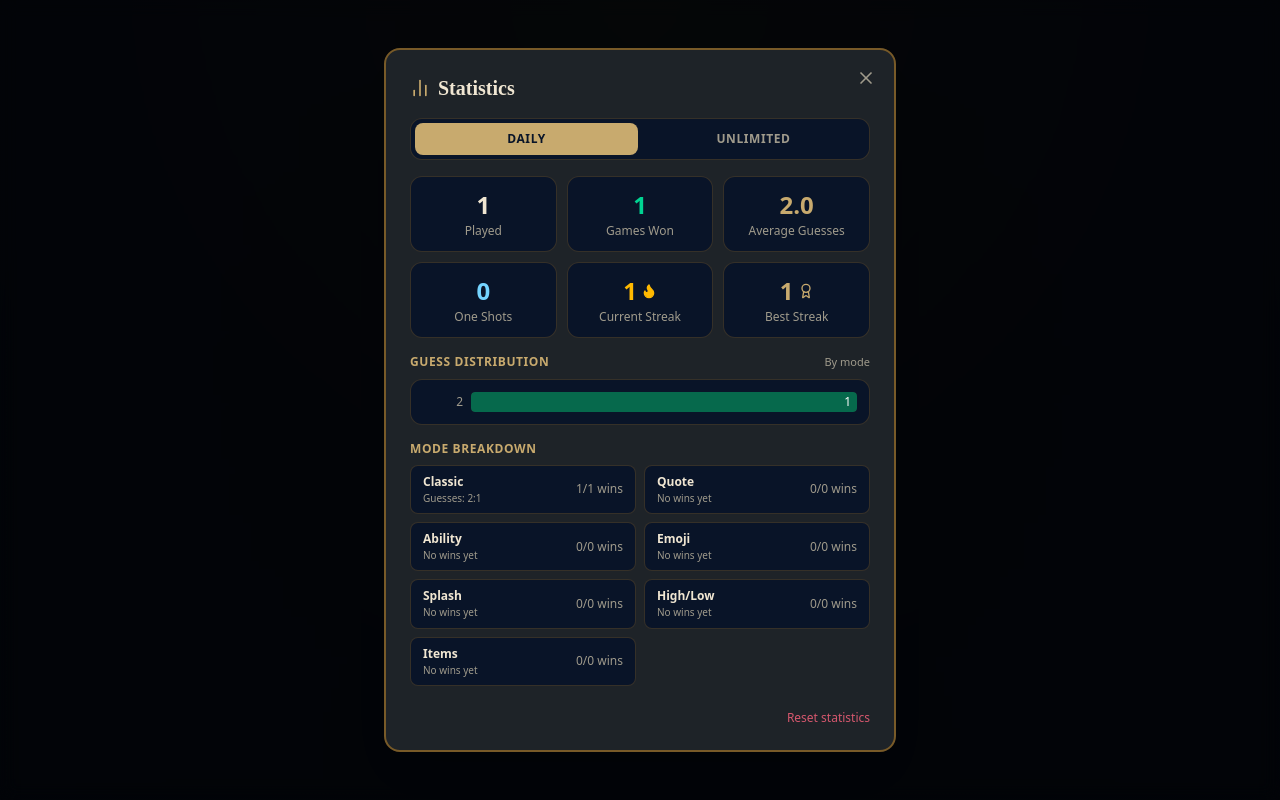
Test: StatsModal Component › renders bucket tabs and per-mode distribution
This screenshot has width=1280, height=800.
Expected: the dialog "Statistics" is shown, [384,48,896,752]
Expected: the text "Games Won" is shown, [606,222,674,239]
Click the tab "Unlimited": (754, 139) [642,123,865,155]
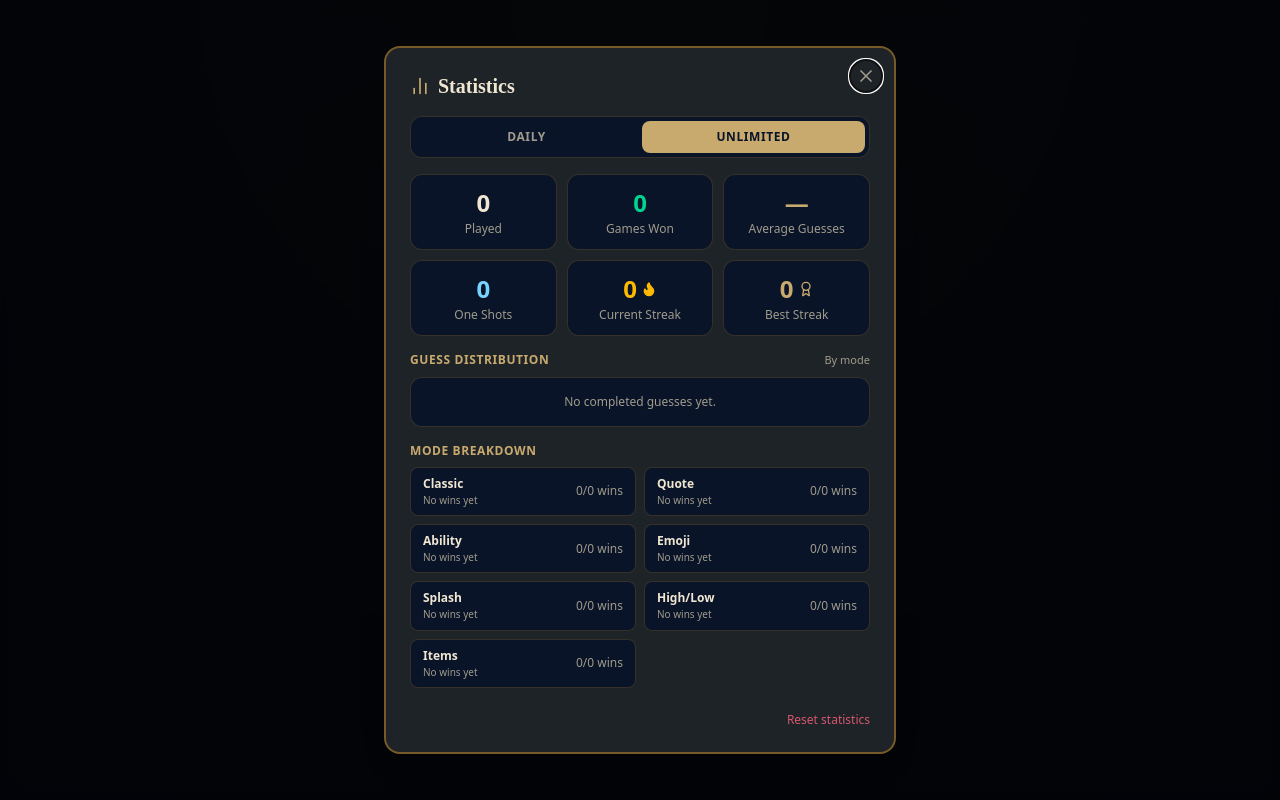
Now the text "No completed guesses yet." is shown, box [410,377,870,427]
